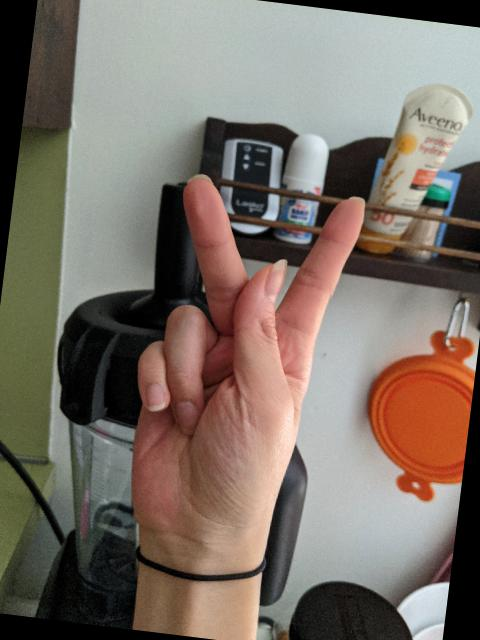K: (106, 165, 374, 574)
